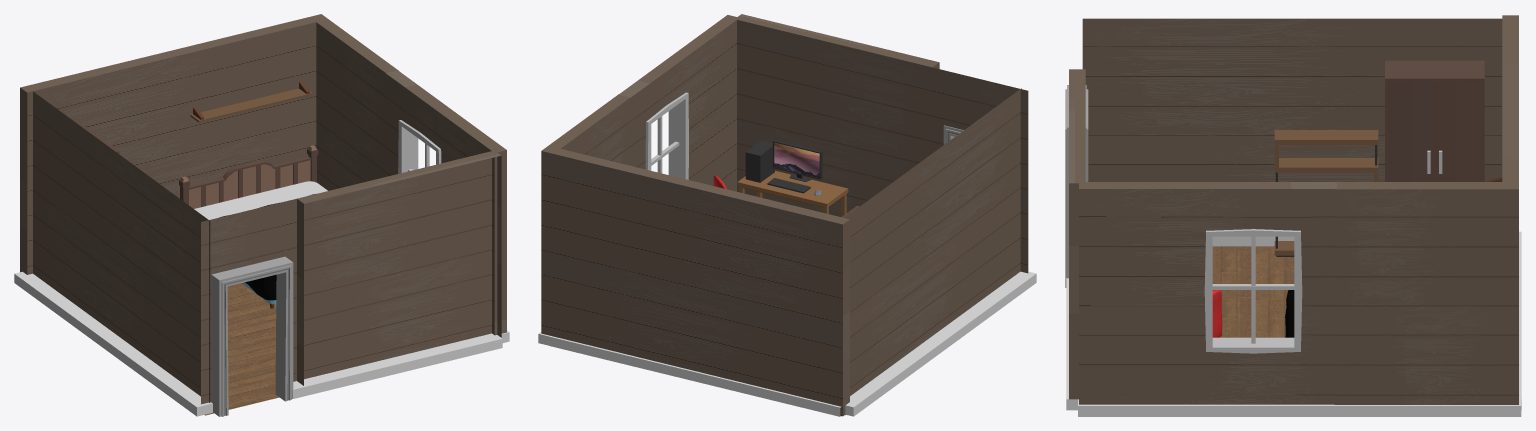
The model's file is bedroom.gltf.
3 views of the same model, side by side, from view 1: azimuth 30°, elevation 25°; view 2: azimuth 150°, elevation 25°; view 3: azimuth 270°, elevation 25° (orthographic). The views are drawn at different scales.
Parts seen in each view (by area): view 1: Wall Standard (Corner) Alt.002, Wall Standard.002, Wall Standard.007, Wall Standard (Window 3).001, Wall Standard (Door).008, Door Frame 2.009, Plane.006, Wall Standard Border.019, Bed Ac (2) Alt.001, Wall Standard Border.003, Bed (2) Ac.001, Simple Shelf.003 (+2 smaller); view 2: Wall Standard (Corner) Alt.002, Wall Standard.007, Wall Standard.002, Wall Standard (Window 3).001, Wall Standard (Door).008, Wall Standard Border.019, Wall Standard (Corner) Border.004, Window Frame 3 B.003, Coffee Table.002, TV 1.002, TV 1.005, Window Frame Ac 3.003; view 3: Wall Standard.007, Wall Standard (Window 3).001, Wall Standard (Corner) Alt.002, Wardrobe Door.001, Wall Standard (Corner) Border.002, Plane.006, Wall Standard.002, Window Frame 3 B.003, Modern Shelves.001, Wardrobe.001, Door Frame 2.009, Window Frame Ac 3.003 (+4 smaller).
Boxes of the visible parts, bbox=[...] form: Wall Standard (Corner) Alt.002: bbox=[20, 14, 398, 274]; Wall Standard.002: bbox=[297, 151, 501, 385]; Wall Standard.007: bbox=[33, 91, 210, 402]; Wall Standard (Window 3).001: bbox=[386, 70, 506, 335]; Wall Standard (Door).008: bbox=[201, 198, 296, 404]; Door Frame 2.009: bbox=[211, 256, 293, 416]; Plane.006: bbox=[204, 283, 279, 415]; Wall Standard Border.019: bbox=[14, 271, 212, 416]; Bed Ac (2) Alt.001: bbox=[179, 145, 318, 208]; Wall Standard Border.003: bbox=[292, 333, 502, 398]; Bed (2) Ac.001: bbox=[194, 181, 327, 219]; Simple Shelf.003: bbox=[190, 81, 312, 122]; Wall Standard (Corner) Alt.002: bbox=[541, 94, 849, 416]; Wall Standard.007: bbox=[844, 88, 1021, 395]; Wall Standard.002: bbox=[737, 14, 939, 216]; Wall Standard (Window 3).001: bbox=[619, 15, 739, 191]; Wall Standard (Door).008: bbox=[932, 67, 1028, 273]; Wall Standard Border.019: bbox=[845, 271, 1036, 416]; Wall Standard (Corner) Border.004: bbox=[549, 337, 841, 416]; Window Frame 3 B.003: bbox=[645, 92, 688, 179]; Coffee Table.002: bbox=[737, 170, 848, 216]; TV 1.002: bbox=[773, 139, 822, 181]; TV 1.005: bbox=[745, 141, 774, 182]; Window Frame Ac 3.003: bbox=[651, 116, 679, 173]; Wall Standard.007: bbox=[1082, 18, 1502, 181]; Wall Standard (Window 3).001: bbox=[1079, 182, 1336, 404]; Wall Standard (Corner) Alt.002: bbox=[1334, 15, 1518, 404]; Wardrobe Door.001: bbox=[1388, 80, 1480, 181]; Wall Standard (Corner) Border.002: bbox=[1078, 331, 1521, 416]; Plane.006: bbox=[1212, 246, 1294, 337]; Wall Standard.002: bbox=[1069, 69, 1085, 399]; Window Frame 3 B.003: bbox=[1204, 229, 1302, 353]; Modern Shelves.001: bbox=[1274, 130, 1378, 256]; Wardrobe.001: bbox=[1385, 60, 1484, 181]; Door Frame 2.009: bbox=[1065, 85, 1088, 287]; Window Frame Ac 3.003: bbox=[1212, 236, 1294, 343].
Bounding box in the file's own units: 5.11 × 3 × 5.47.
Materials: 7 (4 with a texture image).
